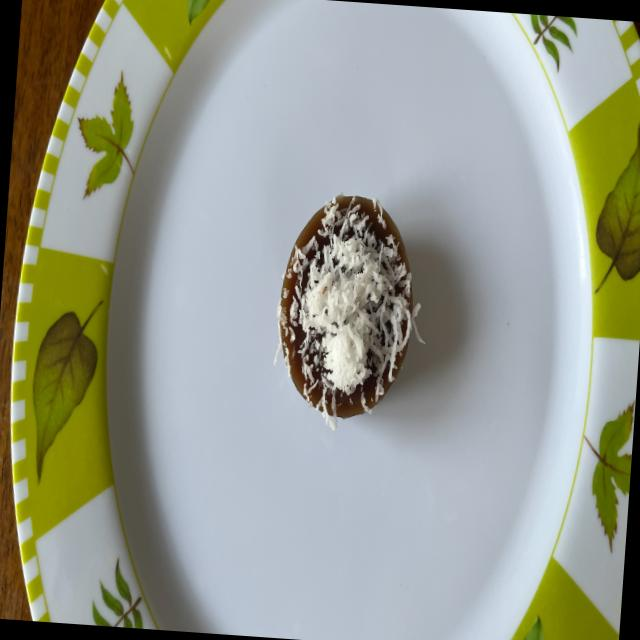Kuih lompang: (277, 194, 420, 428)
